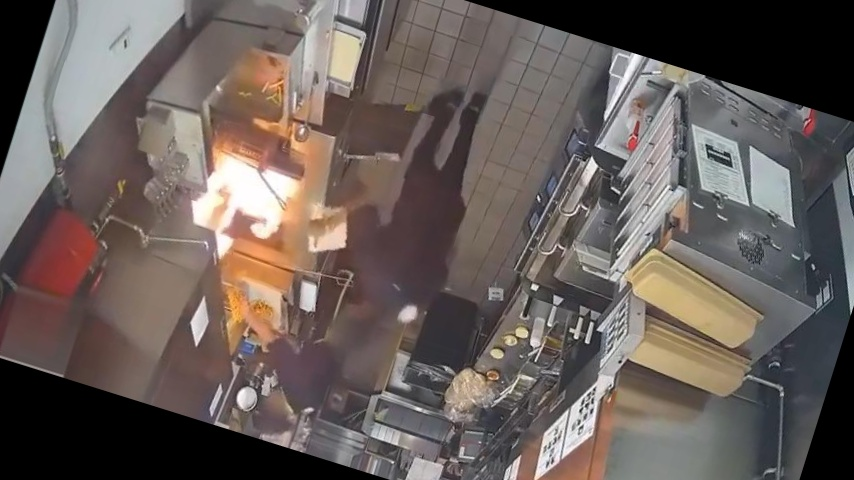fire: (197, 151, 306, 257)
